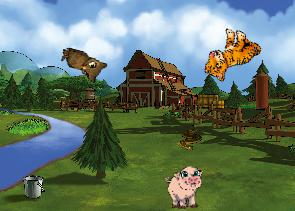owl: (56, 46, 108, 85)
pig: (165, 166, 205, 210)
tiger: (200, 22, 264, 90)
